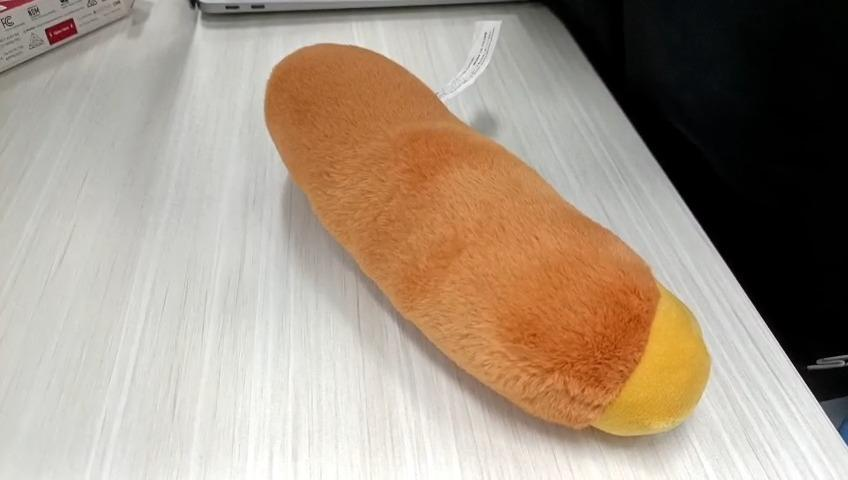hotdog: (265, 43, 711, 436)
